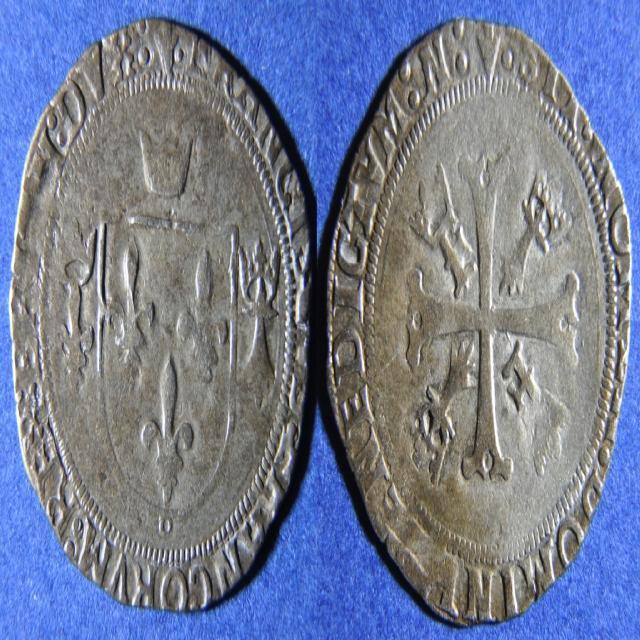Coin: (322, 12, 639, 619), (7, 12, 320, 613)
